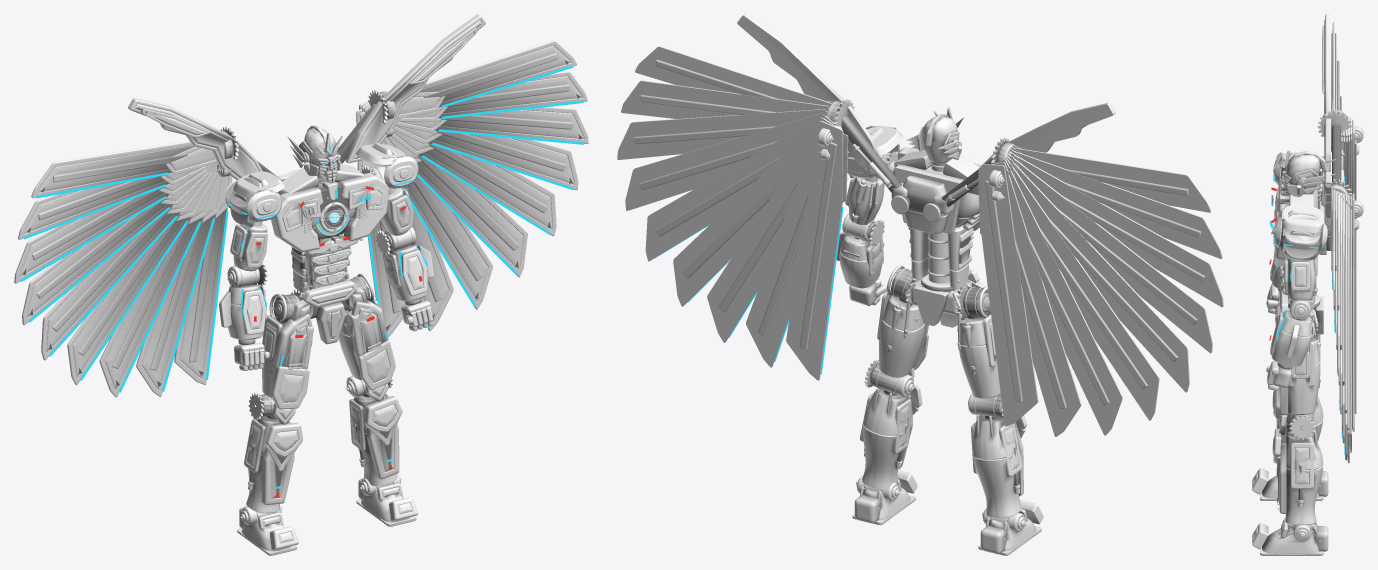
File: sentinel.glb
The picture shows the model from 3 angles, left to right: view 1: azimuth 30°, elevation 25°; view 2: azimuth 150°, elevation 25°; view 3: azimuth 270°, elevation 25°; orthographic projection. The views are drawn at different scales.
Parts seen in each view (by area): view 1: Blade.009, Blade, Blade.005, Blade.014, Blade.004, Blade.015, Blade.013, Blade.006, Blade.016, Blade.003, Blade.012, Blade.017 (+52 smaller); view 2: Blade.008, Blade.017, Blade.015, Blade.014, Blade.016, Blade.013, Blade.012, Blade.005, Blade.006, Blade.004, Blade.007, Blade.003 (+41 smaller); view 3: Shin shell, Gauntlet, Thigh shell, Foot, Wing spar.001, Shin side plate, Pauldron lame 1, Pauldron lame 2, Shin plate, Skull, Bicep side plate, Blade spine.017 (+54 smaller).
Part boxes in pixels (left/top/right/bottom): Blade.009: left=31, top=141, right=194, bottom=197; Blade: left=420, top=40, right=576, bottom=107; Blade.005: left=366, top=106, right=527, bottom=277; Blade.014: left=67, top=217, right=189, bottom=385; Blade.004: left=419, top=149, right=556, bottom=236; Blade.015: left=99, top=218, right=201, bottom=397; Blade.013: left=41, top=212, right=179, bottom=360; Blade.006: left=364, top=104, right=492, bottom=309; Blade.016: left=136, top=215, right=214, bottom=396; Blade.003: left=429, top=134, right=578, bottom=190; Blade.012: left=22, top=203, right=172, bottom=325; Blade.017: left=174, top=208, right=227, bottom=384; Blade.008: left=786, top=121, right=843, bottom=380; Blade.017: left=981, top=164, right=1038, bottom=426; Blade.015: left=995, top=159, right=1122, bottom=435; Blade.014: left=1004, top=157, right=1159, bottom=420; Blade.016: left=990, top=162, right=1081, bottom=436; Blade.013: left=1007, top=155, right=1189, bottom=392; Blade.012: left=1008, top=154, right=1212, bottom=353; Blade.005: left=673, top=114, right=841, bottom=306; Blade.006: left=707, top=115, right=840, bottom=342; Blade.004: left=645, top=113, right=842, bottom=261; Blade.007: left=746, top=118, right=843, bottom=367; Blade.003: left=625, top=111, right=827, bottom=210; Shin shell: left=1285, top=430, right=1323, bottom=525; Gauntlet: left=1271, top=310, right=1311, bottom=366; Thigh shell: left=1288, top=338, right=1320, bottom=414; Foot: left=1262, top=523, right=1319, bottom=554; Wing spar.001: left=1324, top=14, right=1330, bottom=175; Shin side plate: left=1290, top=442, right=1313, bottom=488; Pauldron lame 1: left=1278, top=205, right=1324, bottom=232; Pauldron lame 2: left=1280, top=214, right=1321, bottom=249; Shin plate: left=1278, top=437, right=1286, bottom=513; Skull: left=1286, top=155, right=1320, bottom=194; Bicep side plate: left=1291, top=261, right=1310, bottom=290; Blade spine.017: left=1354, top=218, right=1356, bottom=413.
Bounding box in the file's own units: 7.64 × 5.81 × 1.36.
